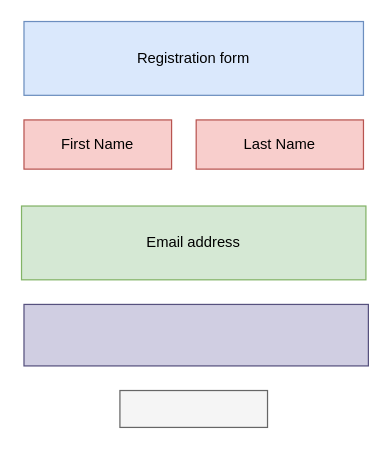
This 390x449 diagram has some shape labels left out. The shapes that lost their labels are listed below. From the top down, each one's box as (x1, y1, x2, y2) in pixels, then its label:
(23, 303, 368, 366): Password
(119, 389, 268, 427): Register
